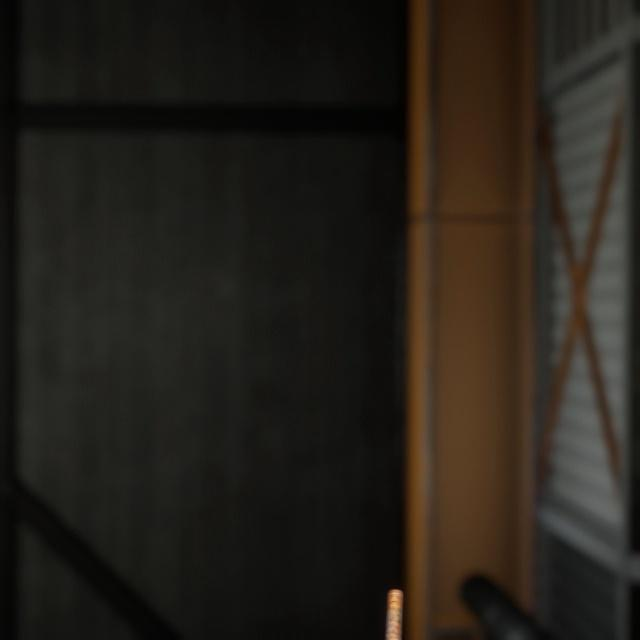bolt: (379, 562, 408, 640)
